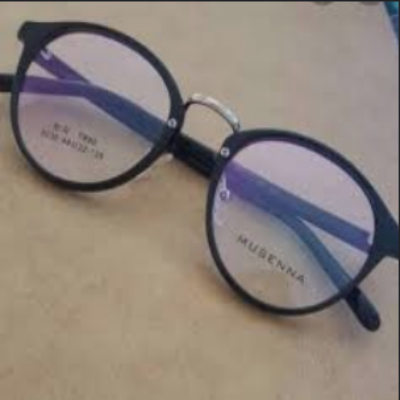glasses: (1, 16, 400, 342)
